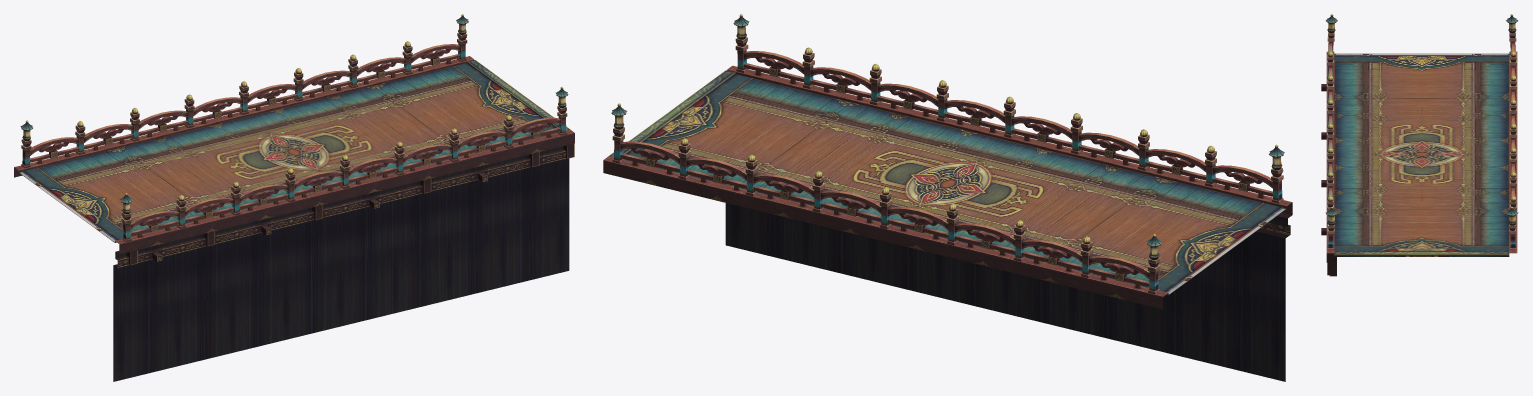
File: G_Side.FBX
3 views of the same model, side by side, from view 1: azimuth 30°, elevation 25°; view 2: azimuth 150°, elevation 25°; view 3: azimuth 270°, elevation 25° (orthographic). The views are drawn at different scales.
Parts seen in each view (by area): view 1: TQT_2, G_Side; view 2: TQT_2, G_Side; view 3: G_Side, TQT_2.
Part boxes in pixels (left/top/right/bottom): TQT_2: left=14, top=14, right=574, bottom=381; G_Side: left=19, top=63, right=557, bottom=242; TQT_2: left=603, top=14, right=1292, bottom=381; G_Side: left=624, top=74, right=1286, bottom=294; G_Side: left=1334, top=53, right=1509, bottom=250; TQT_2: left=1321, top=14, right=1518, bottom=276.
Bounding box in the file's own units: 2225 × 878 × 918.
